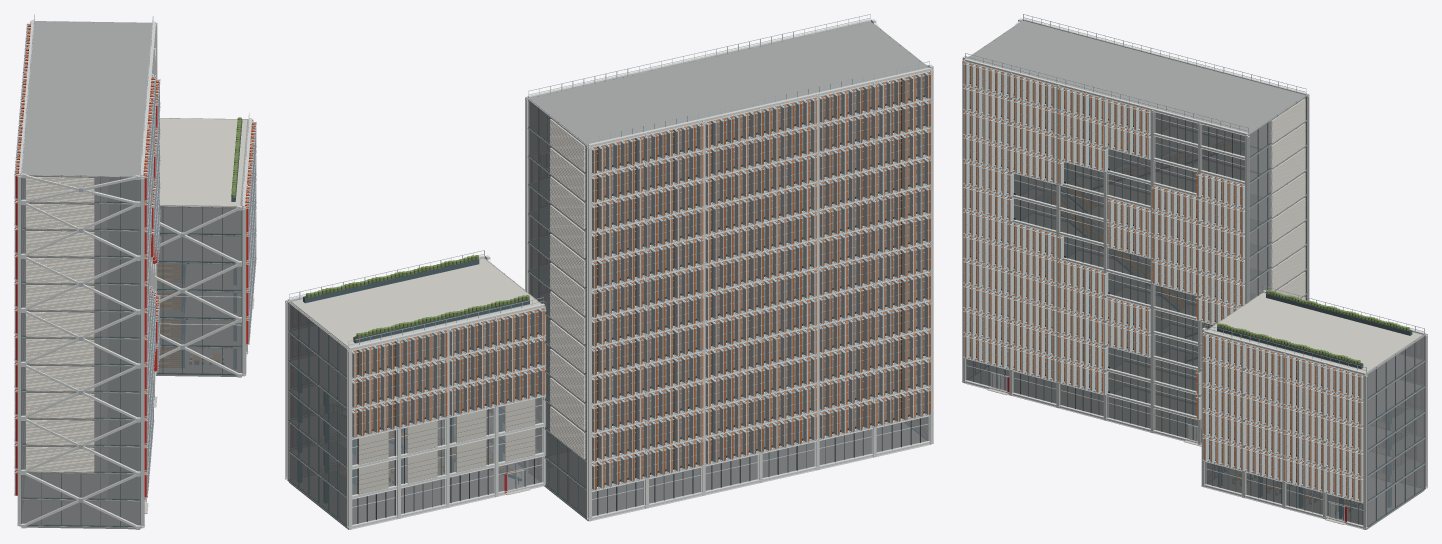
File: cbg-exterior-b85b1994f668.glb
3 renders of one model, left to right at view 1: azimuth 30°, elevation 25°; view 2: azimuth 150°, elevation 25°; view 3: azimuth 270°, elevation 25°, orthographic. The views are drawn at different scales.
Visible parts, largest first — view 1: CBG.001; view 2: CBG.001; view 3: CBG.001.
Part boxes in pixels (left/top/right/bottom): CBG.001: left=14, top=14, right=256, bottom=529; CBG.001: left=285, top=14, right=933, bottom=529; CBG.001: left=962, top=14, right=1427, bottom=529.
Bounding box in the file's own units: 66.1 × 53.56 × 68.49.
